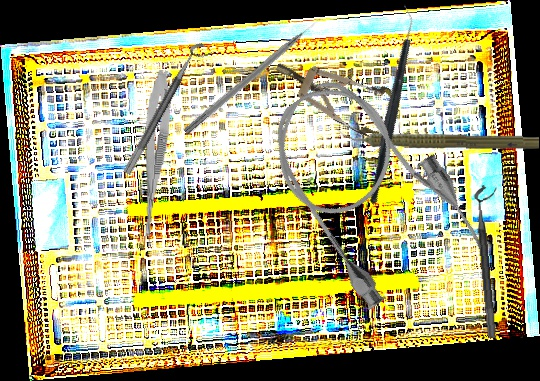Cannula: (246, 53, 494, 322)
Chopper: (304, 2, 475, 206)
Fixation Ring: (122, 39, 214, 182), (473, 184, 510, 339)
Handpiece: (335, 125, 540, 153)
Micro Scissor: (136, 69, 175, 246)
Pusher: (182, 13, 328, 137)
Speculum: (266, 41, 400, 142)
